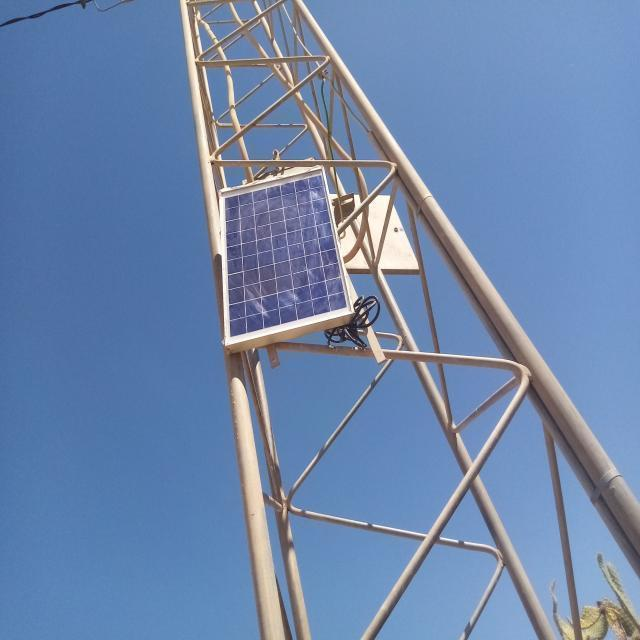Normal Solar Panel: (220, 168, 353, 346)
